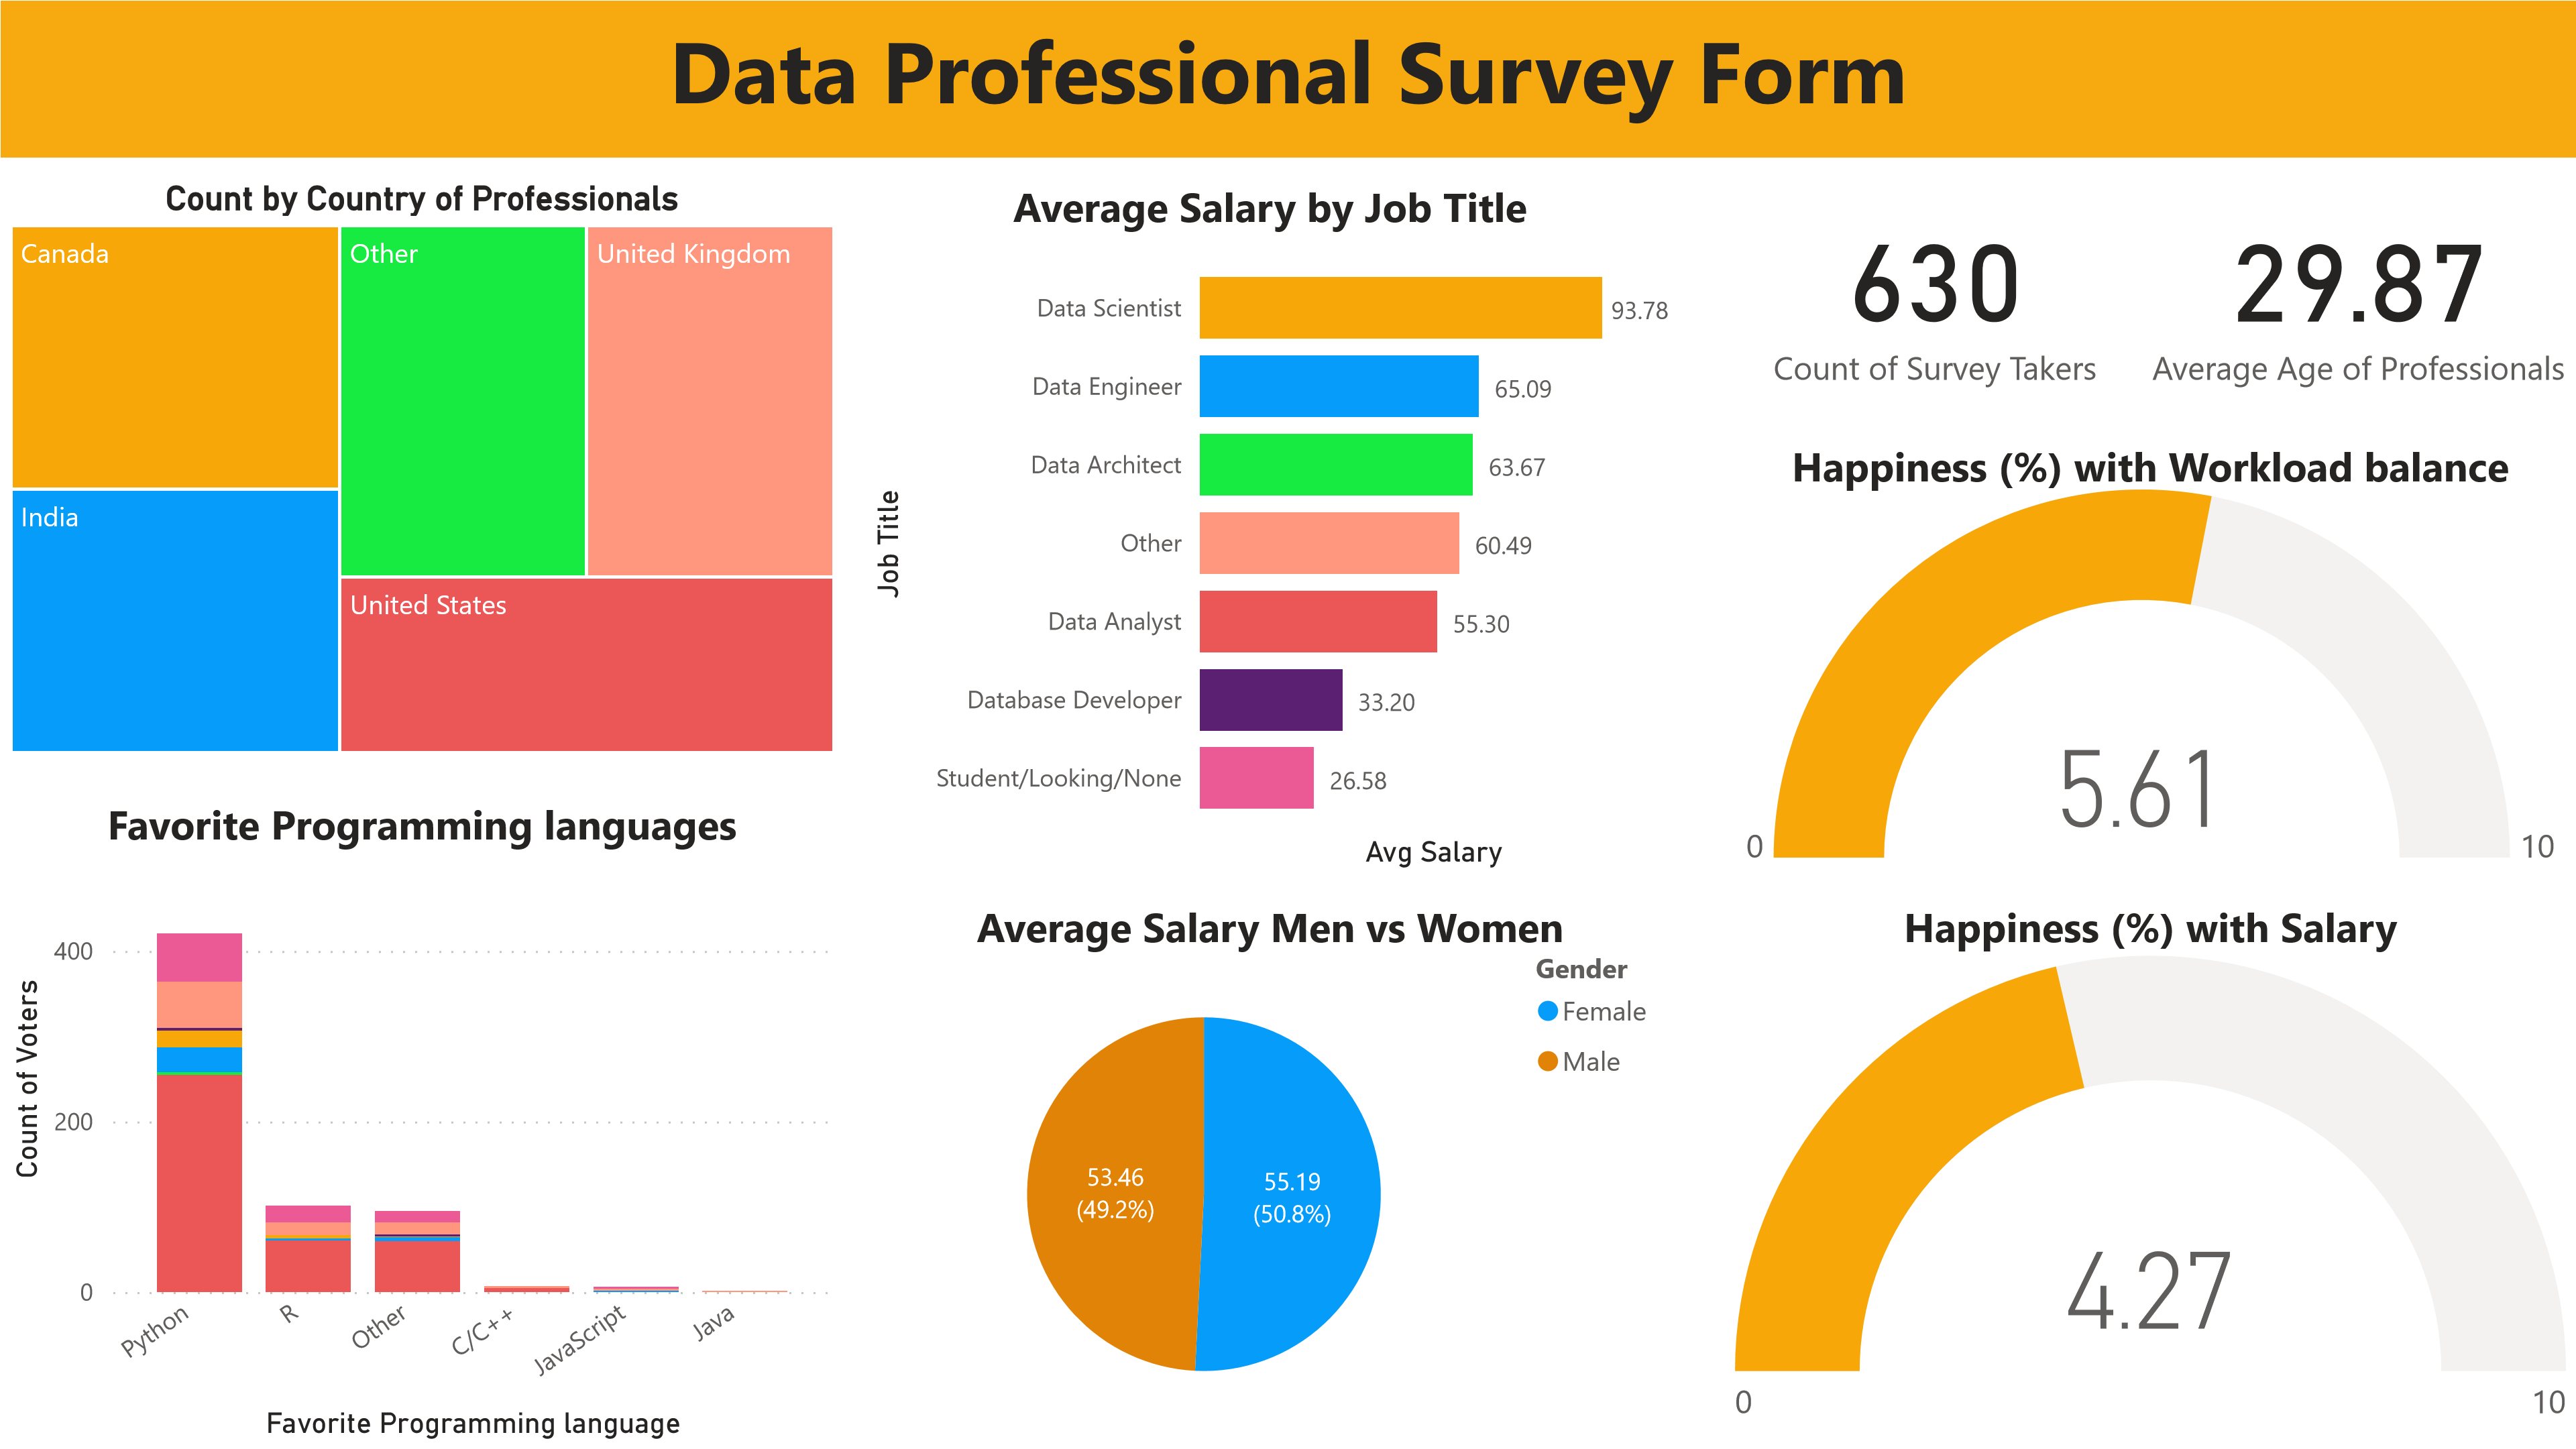

The page's visual inventory and layout, read from the dashboard file:
{"tool":"powerbi","page":{"name":"Page 1","canvas":[1280,720],"ordinal":0},"visuals":[{"type":"textbox","box":[0,0,1280.2,77.8],"z":0},{"type":"card","fields":{"Values":["Count(Data Professional Survey.Unique ID)"]},"box":[833.8,77.8,230.4,122.4],"z":1000},{"type":"card","fields":{"Values":["Avg(Data Professional Survey.Q10 - Current Age)"]},"box":[1064.2,77.8,216,122.4],"z":2000},{"type":"barChart","title":"Average Salary by Job Title","fields":{"Category":["Data Professional Survey.Q1 - Which Title Best Fits your Current Role?.1"],"Y":["Avg(Data Professional Survey.Avg Salary)"],"Series":["Data Professional Survey.Q1 - Which Title Best Fits your Current Role?.1"]},"box":[427.7,77.8,429.1,358.6],"z":3000},{"type":"columnChart","title":"Favorite Programming languages","fields":{"Category":["Data Professional Survey.Q5 - Favorite Programming Language.1"],"Y":["CountNonNull(Data Professional Survey.Unique ID)"],"Series":["Data Professional Survey.Q1 - Which Title Best Fits your Current Role?.1"]},"box":[0,378.7,419,341.3],"z":4000},{"type":"treemap","fields":{"Group":["Data Professional Survey.Q11 - Which Country do you live in?.1"],"Values":["Count(Data Professional Survey.Q11 - Which Country do you live in?.1)"]},"box":[0,77.8,419,301],"z":5000},{"type":"gauge","title":"Happiness (%) with Workload balance","fields":{"Y":["Avg(Data Professional Survey.Q6 - How Happy are you in your Current Position with the following? (Learning New Things))"],"MinValue":["Min(Data Professional Survey.Q6 - How Happy are you in your Current Position with the following? (Learning New Things))1"],"MaxValue":["Max(Data Professional Survey.Q6 - How Happy are you in your Current Position with the following? (Learning New Things))2"]},"box":[856.8,217.4,423.4,218.9],"z":5001},{"type":"gauge","title":"Happiness (%) with Salary","fields":{"Y":["Avg(Data Professional Survey.Q6 - How Happy are you in your Current Position with the following? (Salary))"],"MinValue":["Min(Data Professional Survey.Q6 - How Happy are you in your Current Position with the following? (Salary))1"],"MaxValue":["Max(Data Professional Survey.Q6 - How Happy are you in your Current Position with the following? (Salary))2"]},"box":[856.8,436.3,423.4,283.7],"z":5002},{"type":"pieChart","title":"Average Salary Men vs Women","fields":{"Category":["Data Professional Survey.Q9 - Male/Female?"],"Y":["Avg(Data Professional Survey.Avg Salary)"]},"box":[427.7,436.3,406.1,283.7],"z":5003}]}

Visuals, with their boxes in screenshot pixels (x1, y1, x2, y2), scaled from the page's 1280x720 canvas onto the 2576x1449 screenshot:
textbox: [x1=0, y1=0, x2=2575, y2=157]
card - Count(Data Professional Survey.Unique ID): [x1=1678, y1=157, x2=2141, y2=403]
card - Avg(Data Professional Survey.Q10 - Current Age): [x1=2141, y1=157, x2=2575, y2=403]
"Average Salary by Job Title" barChart: [x1=860, y1=157, x2=1724, y2=878]
"Favorite Programming languages" columnChart: [x1=0, y1=762, x2=843, y2=1448]
treemap - Data Professional Survey.Q11 - Which Country do you live in?.1 x Count(Data Professional Survey.Q11 - Which Country do you live in?.1): [x1=0, y1=157, x2=843, y2=762]
"Happiness (%) with Workload balance" gauge: [x1=1724, y1=438, x2=2575, y2=878]
"Happiness (%) with Salary" gauge: [x1=1724, y1=878, x2=2575, y2=1448]
"Average Salary Men vs Women" pieChart: [x1=860, y1=878, x2=1678, y2=1448]
